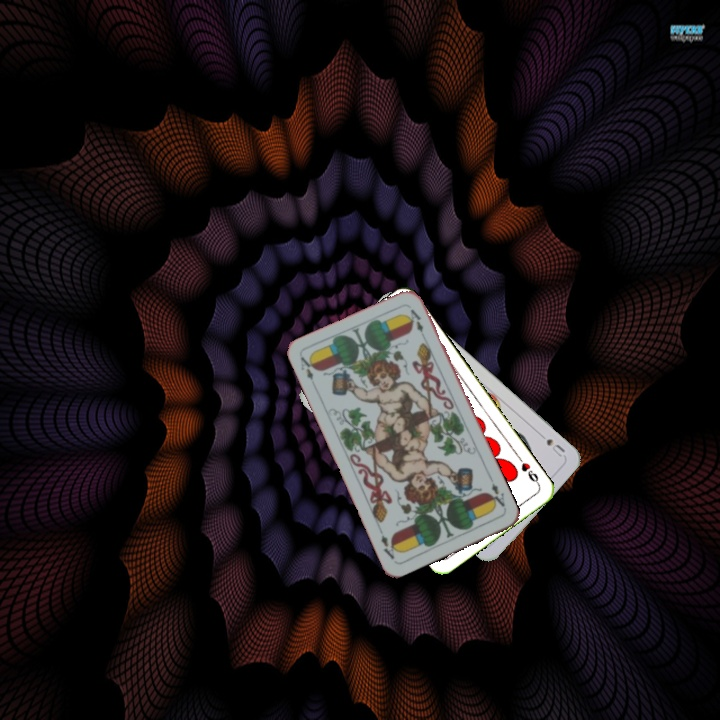EA: (485, 479, 509, 512), (296, 353, 319, 383)
H9: (514, 453, 542, 488)
SU: (542, 434, 568, 460)
